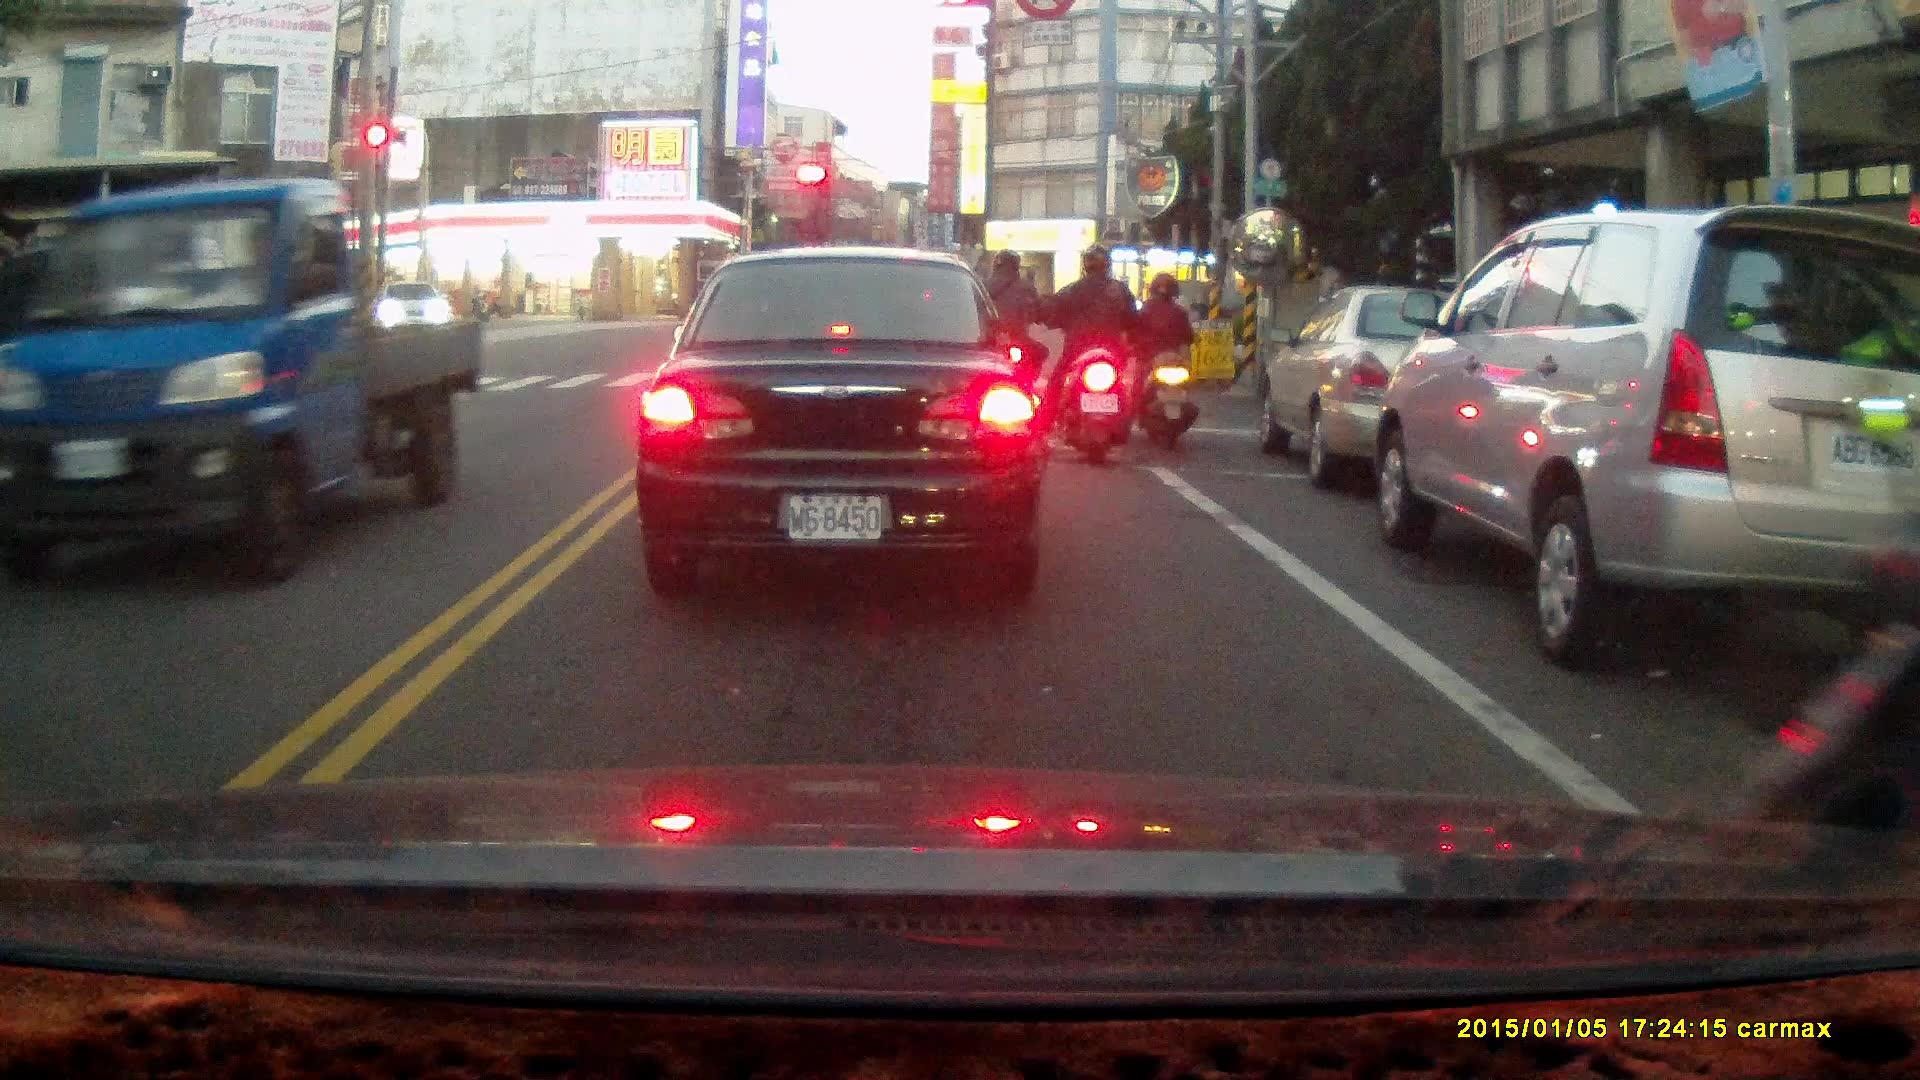rider: (1744, 365, 1920, 966), (1036, 247, 1141, 466), (965, 254, 1047, 433), (1127, 275, 1196, 452)
vehicle: (1366, 202, 1920, 668), (1, 173, 485, 592), (635, 249, 1042, 599), (1255, 285, 1557, 493), (210, 266, 392, 397)
